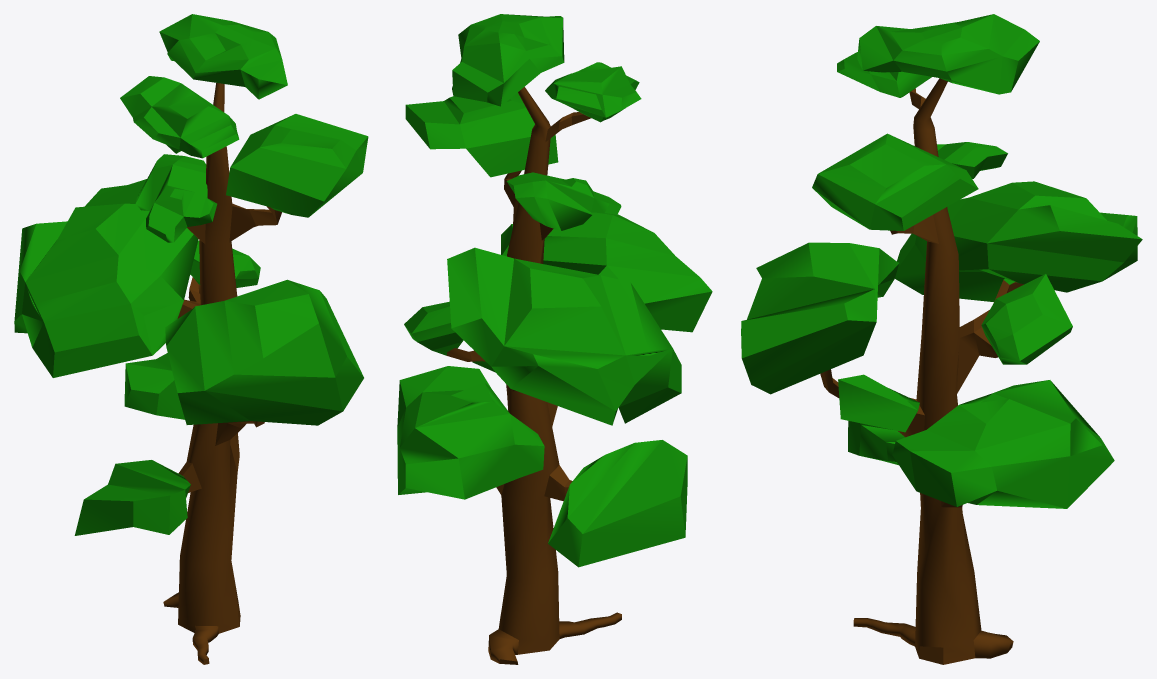
The model's file is baum_a002.FBX.
3 views of the same model, side by side, from view 1: azimuth 30°, elevation 25°; view 2: azimuth 150°, elevation 25°; view 3: azimuth 270°, elevation 25° (orthographic). The views are drawn at different scales.
Visible parts, largest first — view 1: Baum_A002; view 2: Baum_A002; view 3: Baum_A002.
Part boxes in pixels (x1,y1,x2,y2): Baum_A002: (14,14,368,664); Baum_A002: (397,14,712,664); Baum_A002: (741,14,1142,664).
Bounding box in the file's own units: 30.16 × 57.76 × 32.97.
